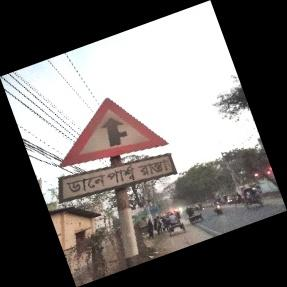Side-road-right: (63, 98, 171, 193)
